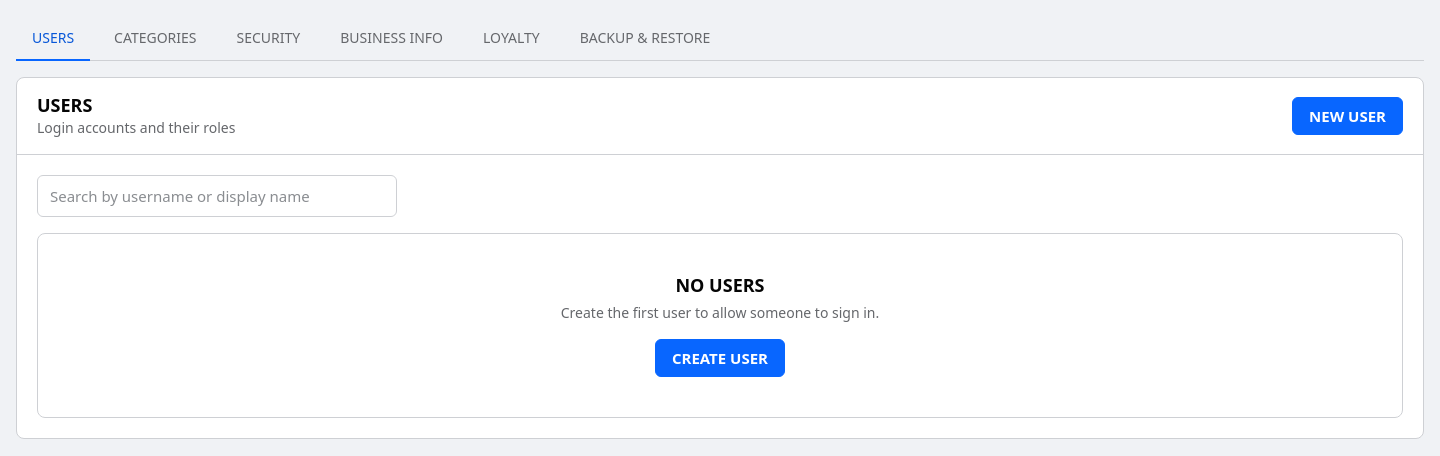
SettingsPage › shows backup and restore actions
The width and height of the screenshot is (1440, 456).
Click the tab "Backup & restore". click: (645, 38)
box: top-left (564, 16), bottom-right (726, 61)
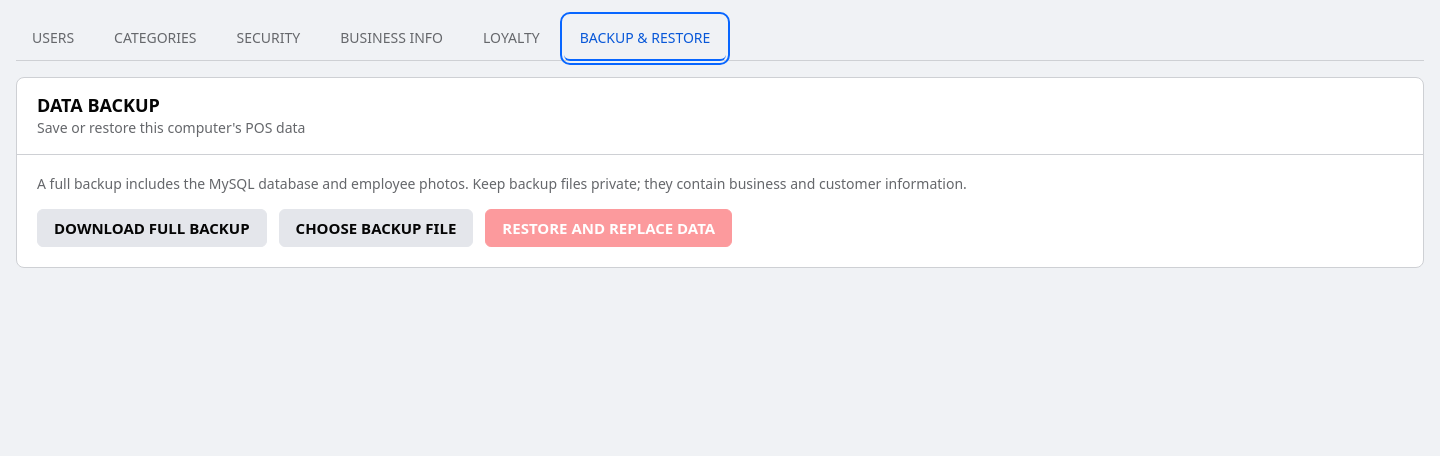
Result: the button "Download full backup" is shown at top-left (37, 209), bottom-right (267, 247)
Result: the button "Choose backup file" is shown at top-left (279, 209), bottom-right (473, 247)
Result: the button "Restore and replace data" is disabled at top-left (485, 209), bottom-right (732, 247)
